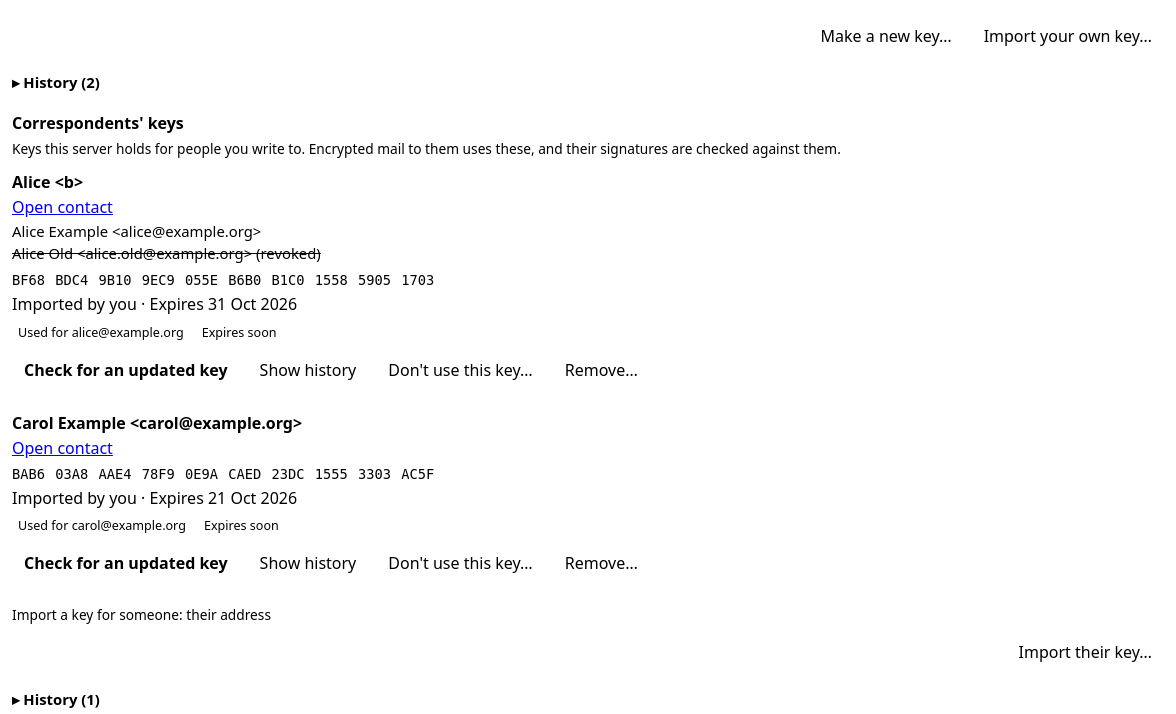
Test: correspondents' keys: history and removal (#815) › removed keys are under History, with when they were removed and nothing to do but read
(page scrolled)
Click the button with class "key-history-toggle" showing "▸ History (1)" at (56, 699), box x1=12 y1=685 x2=100 y2=713
(page scrolled)
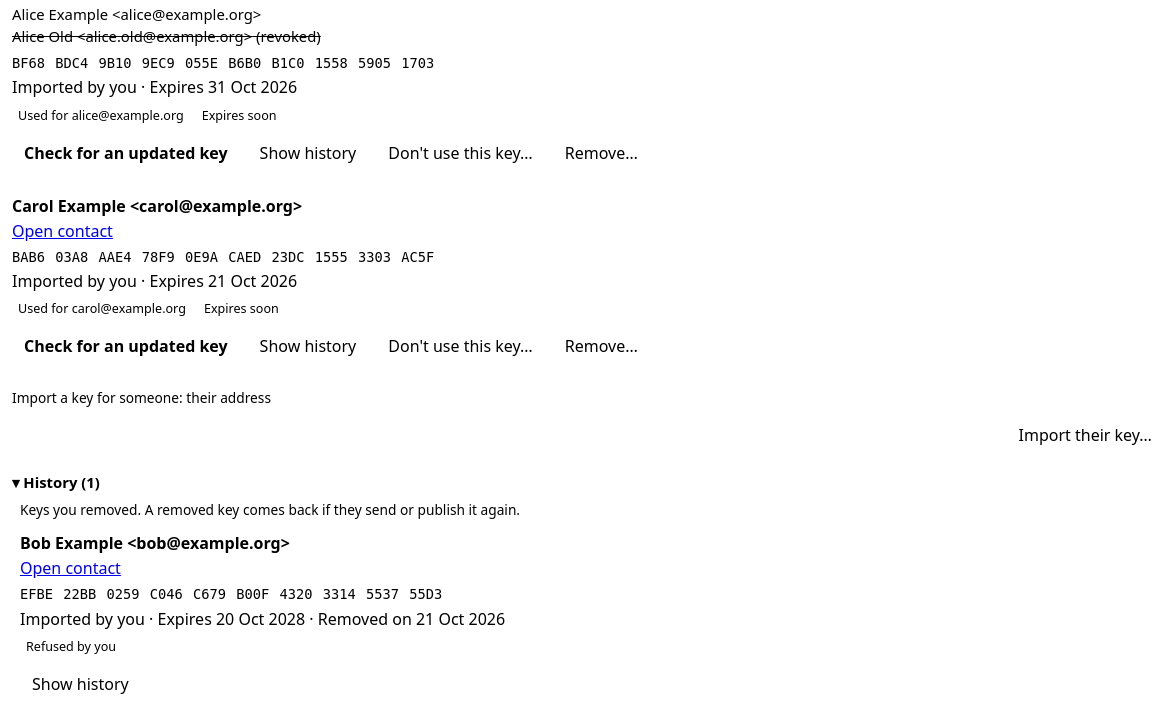
Check: the list item with class "correspondent-key" shows "Removed on 21 Oct 2026", box x1=318 y1=608 x2=505 y2=630
Check: the list item with class "correspondent-key" shows "Refused by you", box x1=26 y1=638 x2=116 y2=655
